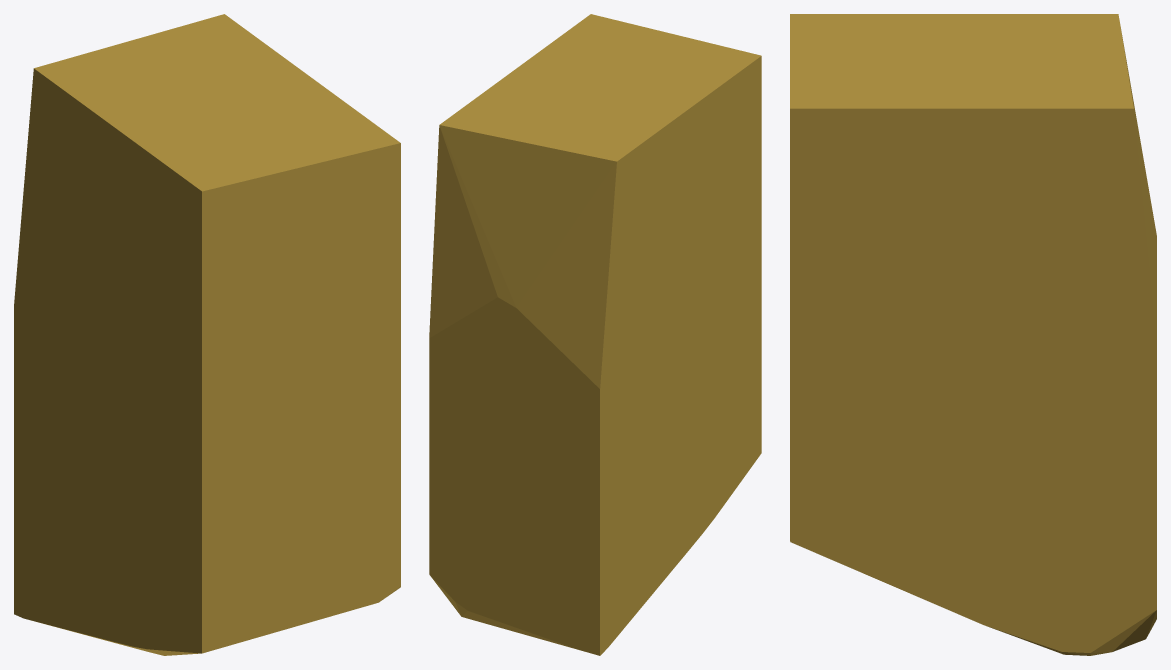
3 renders of one model, left to right at view 1: azimuth 30°, elevation 25°; view 2: azimuth 150°, elevation 25°; view 3: azimuth 270°, elevation 25°, orthographic. The views are drawn at different scales.
Bounding box in the file's own units: 0.0114 × 0.0308 × 0.0187.
